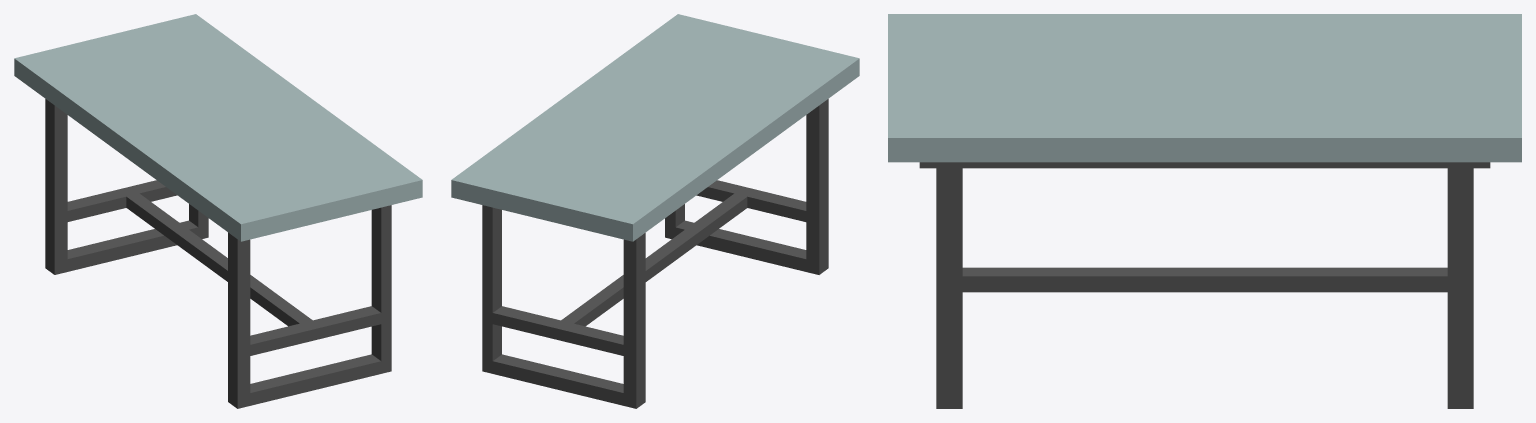
Rendered from tabel.fbx.
The picture shows the model from 3 angles, left to right: view 1: azimuth 30°, elevation 25°; view 2: azimuth 150°, elevation 25°; view 3: azimuth 270°, elevation 25°; orthographic projection. The views are drawn at different scales.
Visible parts, largest first — view 1: pCube1; view 2: pCube1; view 3: pCube1.
Part boxes in pixels (x1,y1,x2,y2): pCube1: [14, 14, 422, 408]; pCube1: [451, 14, 859, 408]; pCube1: [888, 14, 1521, 408].
Size of the model in its own units: 1.56 by 1.64 by 3.37.
